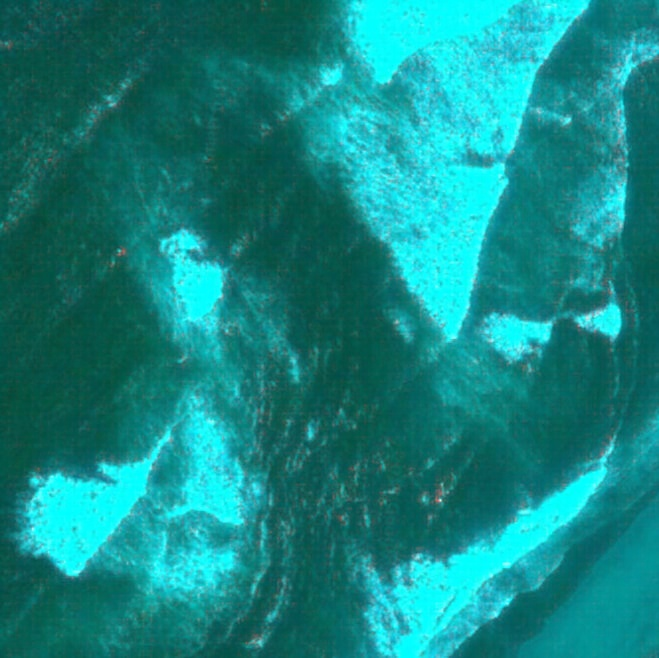rip_current: (105, 89, 521, 566)
